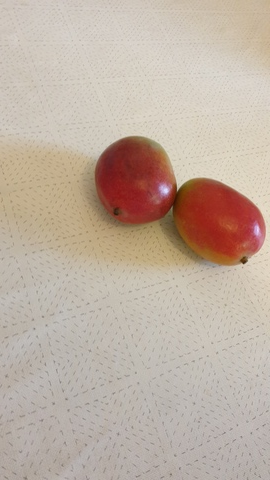Mango: (94, 136, 178, 226)
